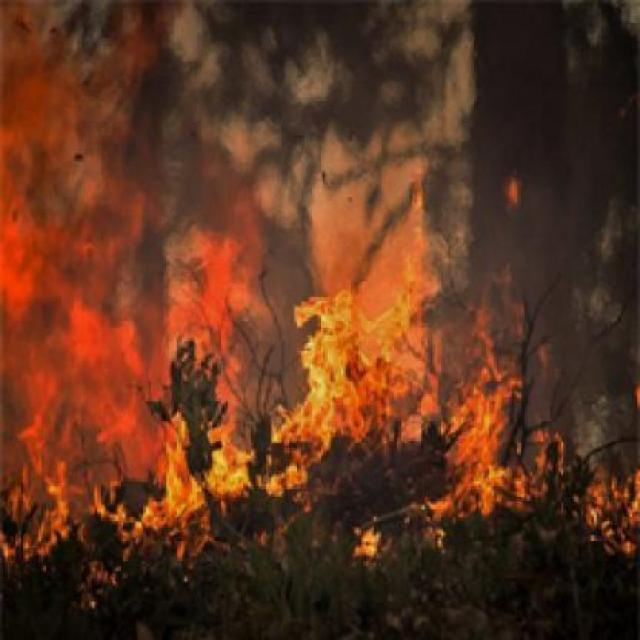Fire: (0, 134, 621, 640)
